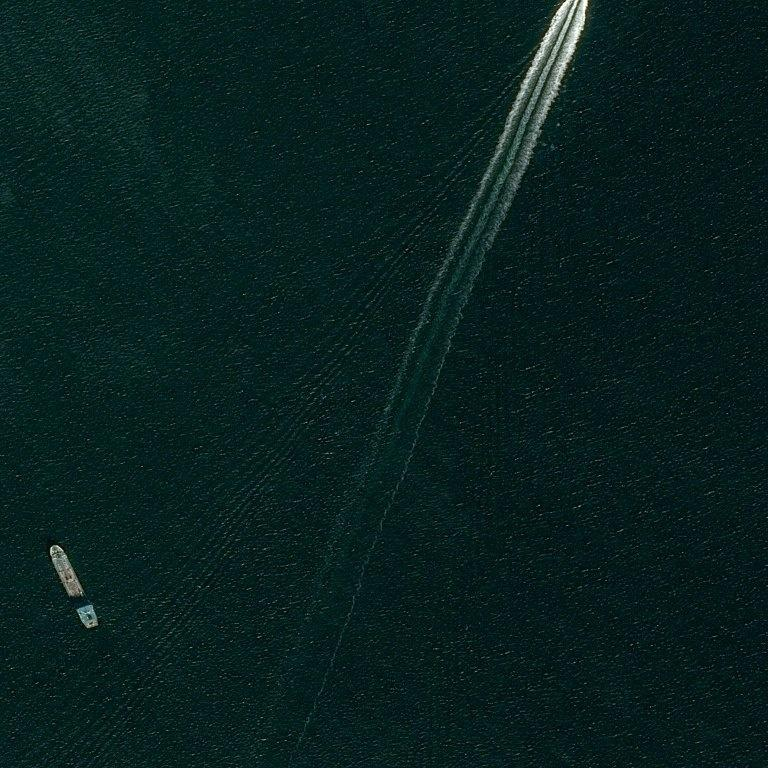ship: (45, 586, 101, 588), (86, 624, 91, 629), (50, 545, 56, 548), (96, 621, 99, 626)
